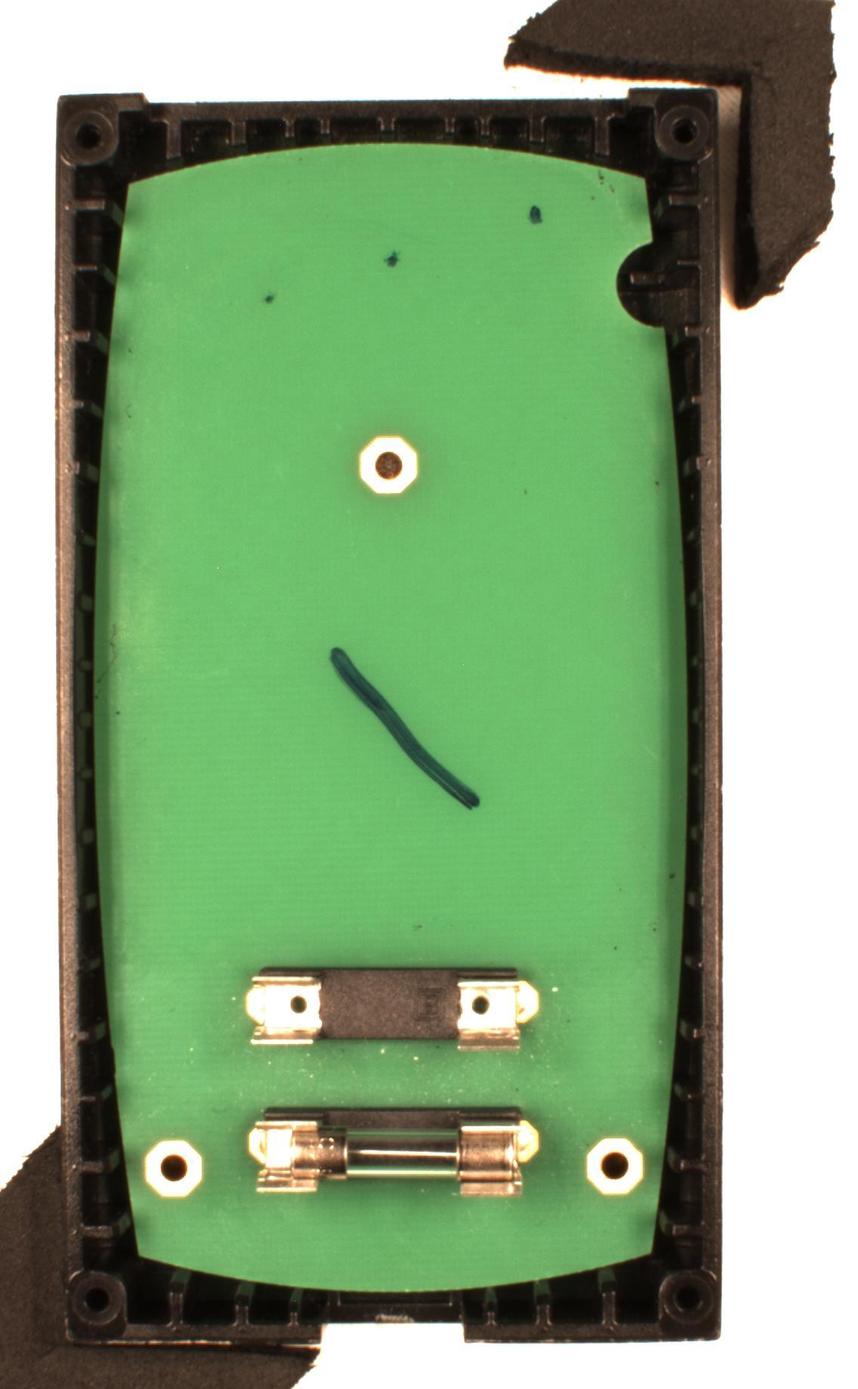Linijsko Ostecene: (325, 642, 484, 812)
Nepostojanje osiguraca: (244, 965, 541, 1053)
Tockasto Ostecenje: (527, 205, 545, 224), (384, 251, 401, 269), (263, 293, 276, 304)
